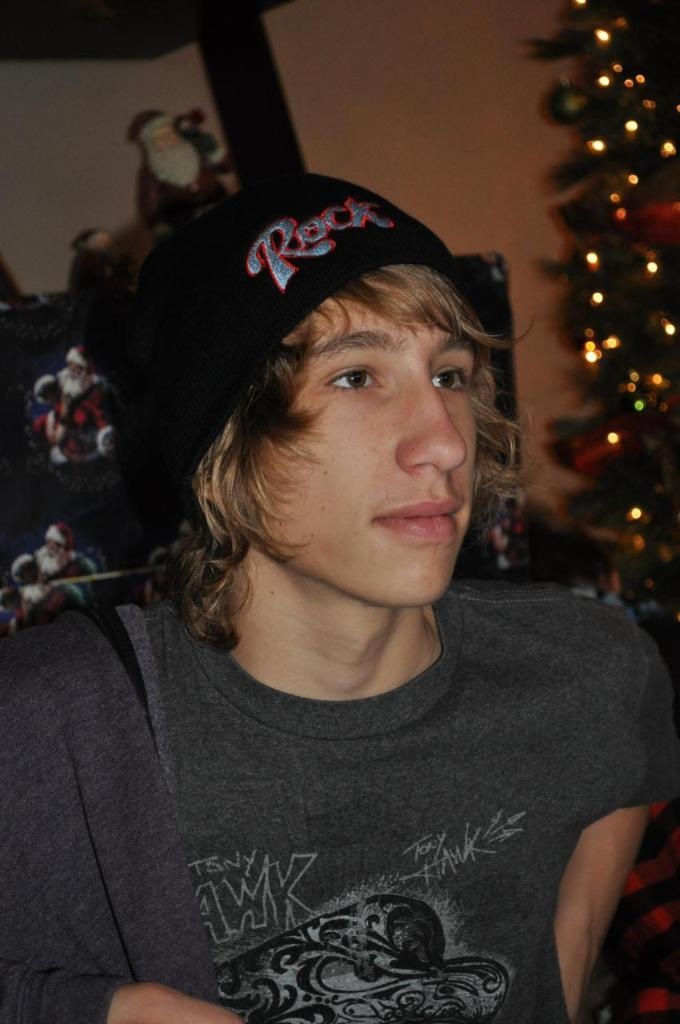Hat: (120, 166, 502, 528)
